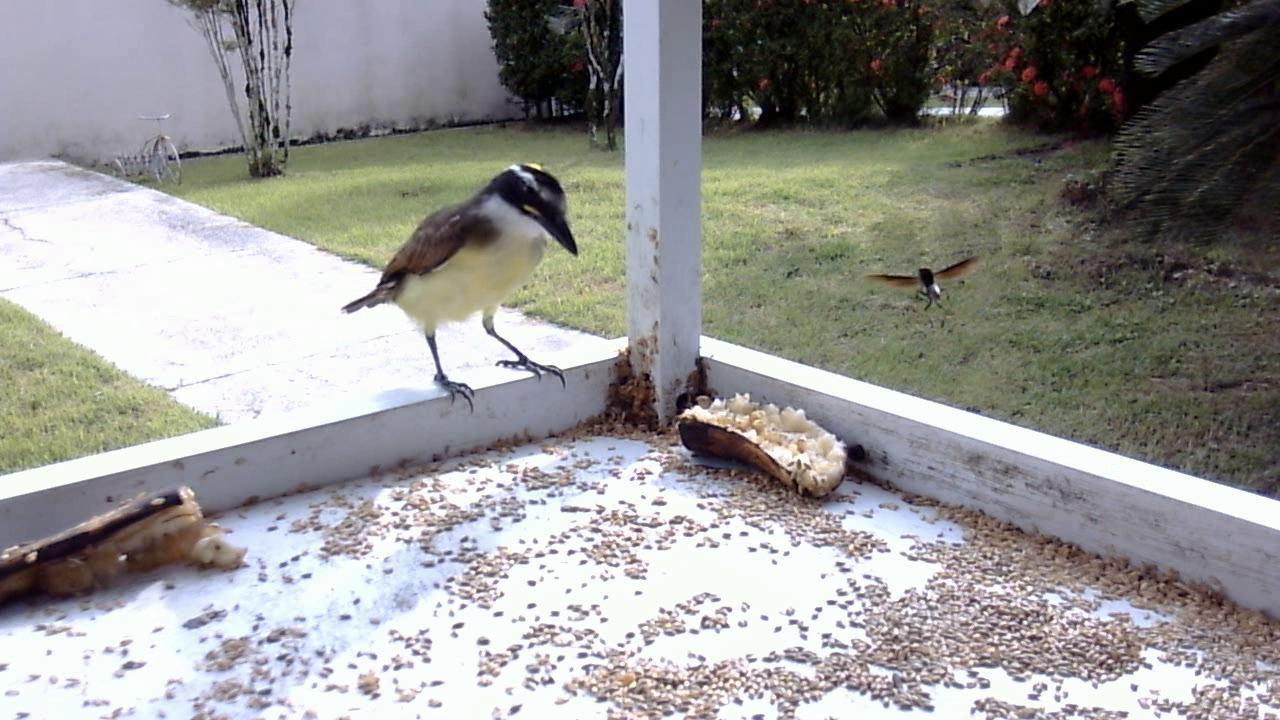bem_te_vi: (327, 152, 583, 428)
